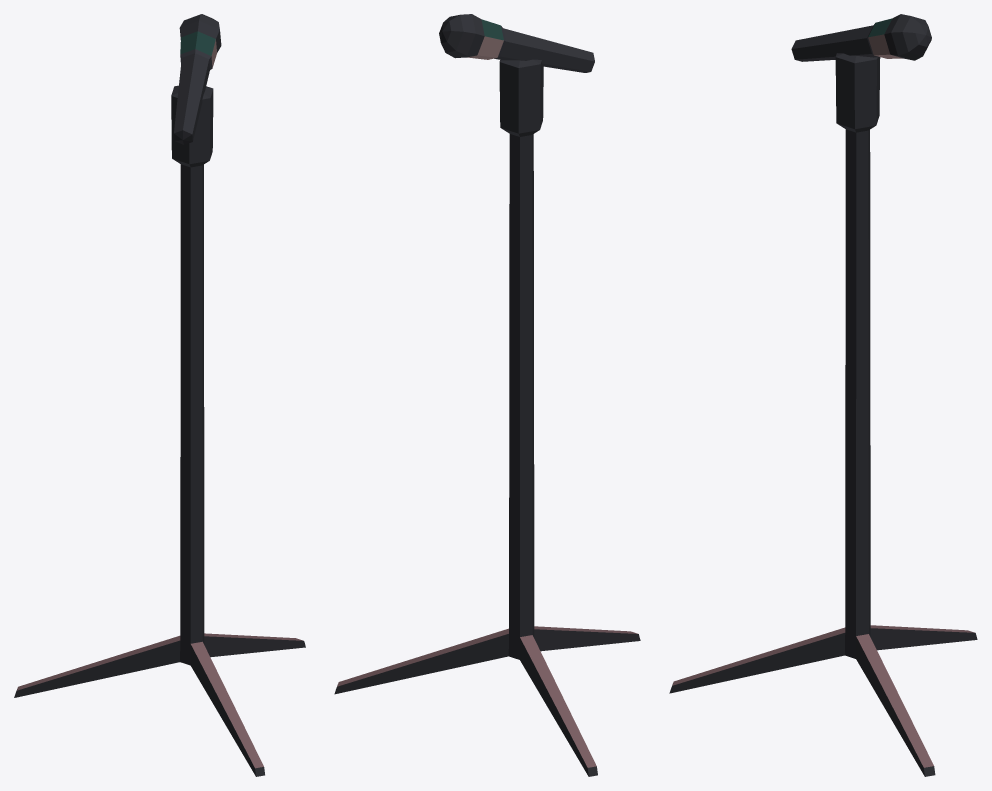
Rendered from CMS_InstrumentMic.fbx.
3 renders of one model, left to right at view 1: azimuth 30°, elevation 25°; view 2: azimuth 150°, elevation 25°; view 3: azimuth 270°, elevation 25°, orthographic. The views are drawn at different scales.
Visible parts, largest first — view 1: InstrumentMic; view 2: InstrumentMic; view 3: InstrumentMic.
Boxes of the visible parts, box(x1,y1,x2,y2) form: InstrumentMic: box(14, 14, 305, 776); InstrumentMic: box(334, 14, 640, 776); InstrumentMic: box(669, 14, 977, 776).
Bounding box in the file's own units: 386 × 906 × 360.
